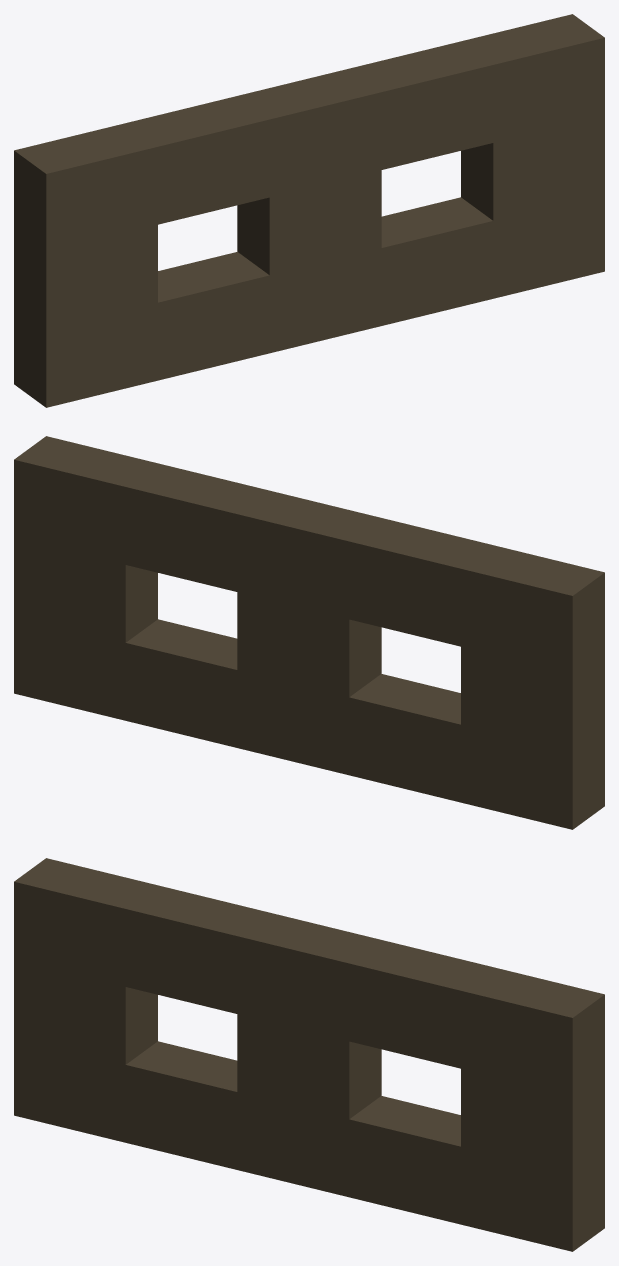
File: wall_windows.fbx
3 renders of one model, top to bottom at view 1: azimuth 30°, elevation 25°; view 2: azimuth 150°, elevation 25°; view 3: azimuth 330°, elevation 25°, orthographic.
Visible parts, largest first — view 1: wall_windows; view 2: wall_windows; view 3: wall_windows.
Boxes of the visible parts, bbox=[...] form: wall_windows: bbox=[14, 14, 604, 407]; wall_windows: bbox=[14, 436, 604, 829]; wall_windows: bbox=[14, 858, 604, 1251].
Size of the model in its own units: 10 by 1 by 4.
